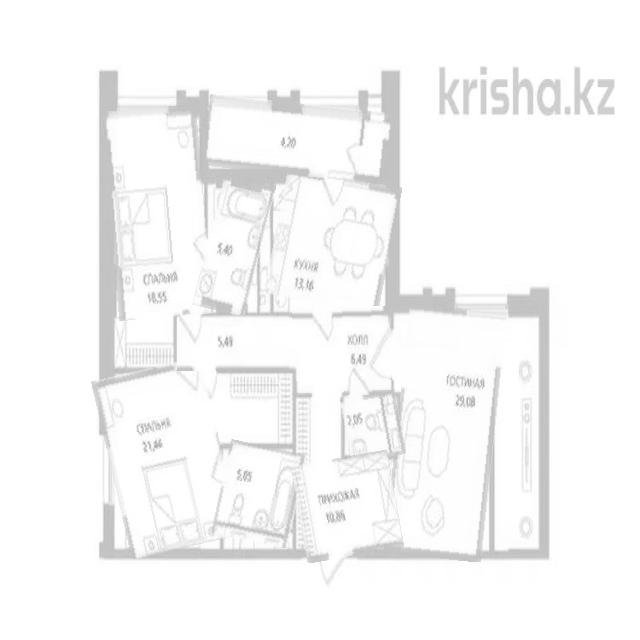bathroom: (200, 173, 269, 315), (216, 442, 302, 546), (342, 389, 403, 461)
hallway: (205, 99, 393, 181), (295, 453, 401, 560), (293, 307, 393, 397), (178, 316, 290, 372)
kitchen: (269, 171, 396, 311)
living_room: (391, 305, 501, 560), (100, 361, 232, 554), (106, 106, 209, 320)
